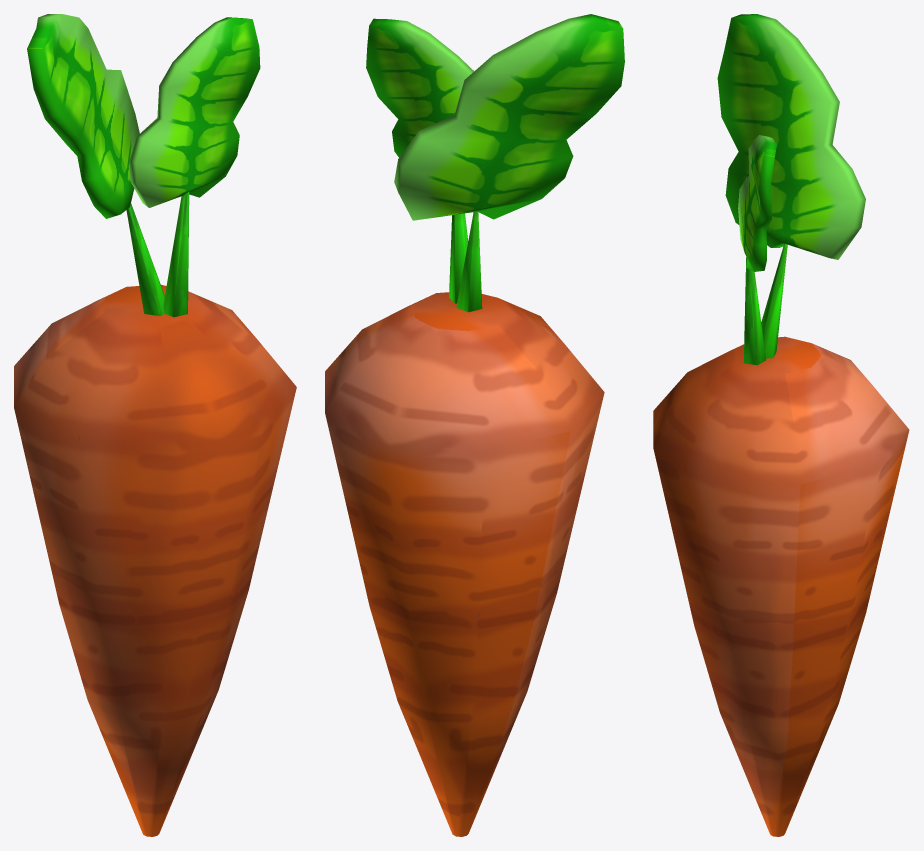
The model's file is Zanahoria.fbx.
3 renders of one model, left to right at view 1: azimuth 30°, elevation 25°; view 2: azimuth 150°, elevation 25°; view 3: azimuth 270°, elevation 25°, orthographic. The views are drawn at different scales.
Visible parts, largest first — view 1: Zanahoria; view 2: Zanahoria; view 3: Zanahoria.
Boxes of the visible parts, bbox=[...] form: Zanahoria: bbox=[14, 14, 296, 836]; Zanahoria: bbox=[325, 14, 624, 836]; Zanahoria: bbox=[653, 14, 909, 836].
Size of the model in its own units: 6.29 by 18.9 by 5.73.
Materials: 5 (5 with a texture image).
